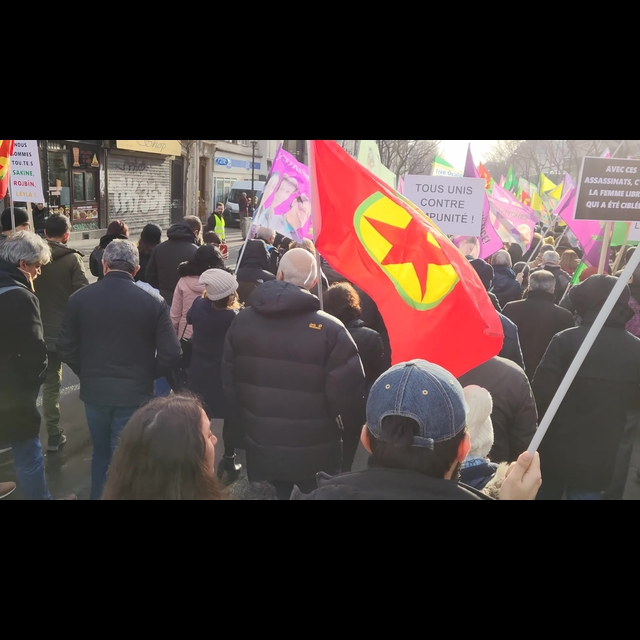PKK: (347, 181, 471, 318)
